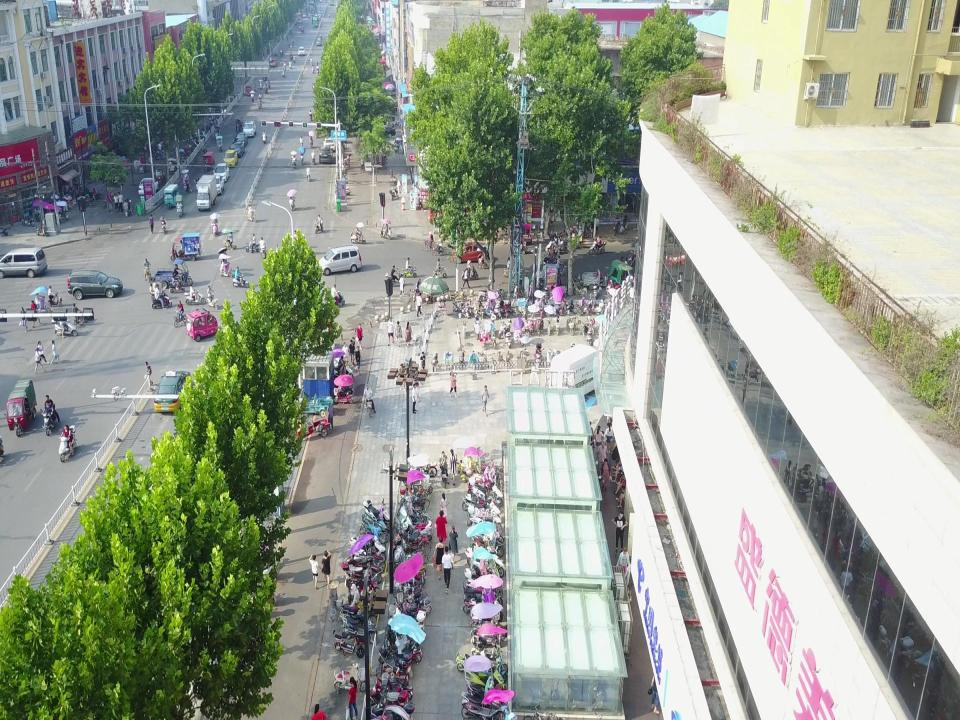car: (154, 371, 192, 414), (68, 272, 122, 298), (318, 244, 361, 275), (186, 309, 218, 341), (452, 241, 489, 264), (138, 177, 158, 196), (208, 174, 224, 196), (373, 125, 397, 139), (214, 162, 230, 182), (318, 145, 334, 164), (230, 140, 244, 156), (224, 151, 238, 166), (323, 135, 335, 152), (243, 121, 255, 137), (234, 132, 248, 145), (244, 85, 252, 96), (269, 58, 277, 68), (298, 47, 306, 56)
truck: (196, 175, 216, 211)
van: (0, 248, 47, 277)
